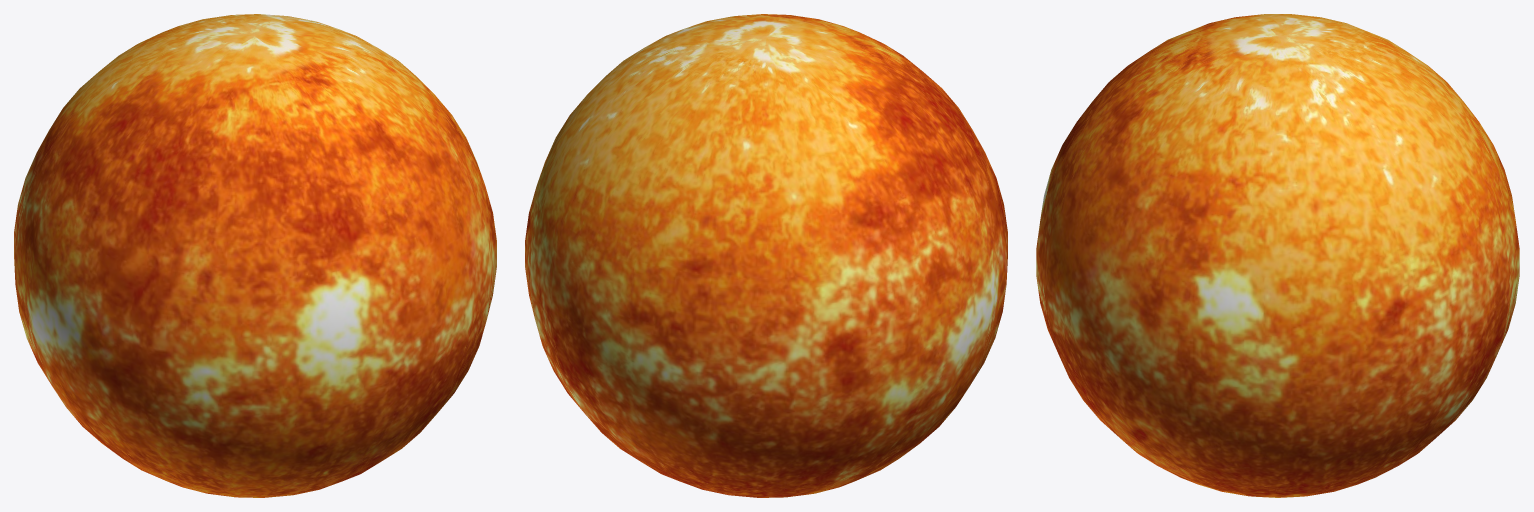
Rendered from sun.obj.
The picture shows the model from 3 angles, left to right: view 1: azimuth 30°, elevation 25°; view 2: azimuth 150°, elevation 25°; view 3: azimuth 270°, elevation 25°; orthographic projection.
Visible parts, largest first — view 1: sun; view 2: sun; view 3: sun.
Part boxes in pixels (bbox=[...]): sun: bbox=[14, 14, 496, 497]; sun: bbox=[525, 14, 1007, 497]; sun: bbox=[1036, 14, 1519, 497].
Size of the model in its own units: 38.71 by 38.94 by 38.78.
1 material, 1 textured.
